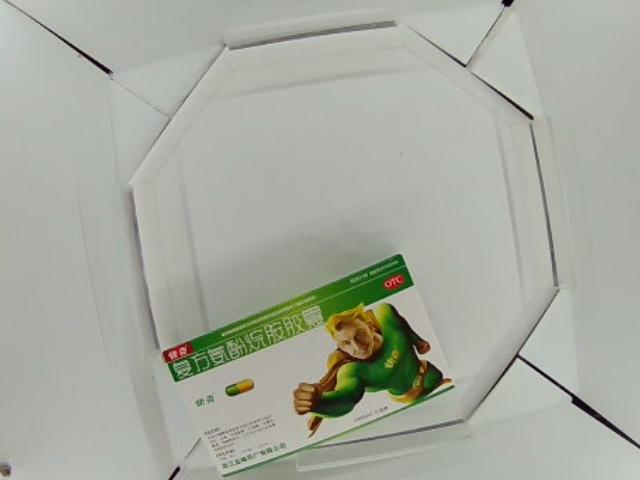Medicine: (157, 252, 457, 477)
